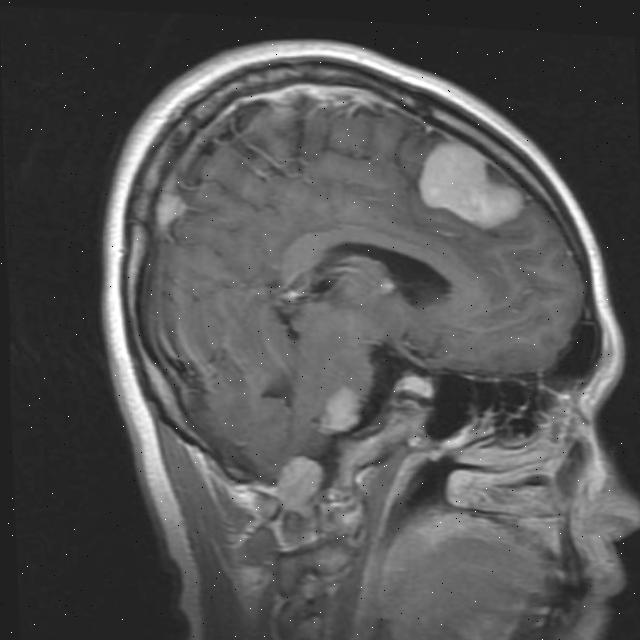Meningioma: (417, 138, 525, 234), (275, 450, 327, 519), (315, 382, 365, 442), (154, 188, 190, 231)
Pituitary: (392, 369, 437, 400)
